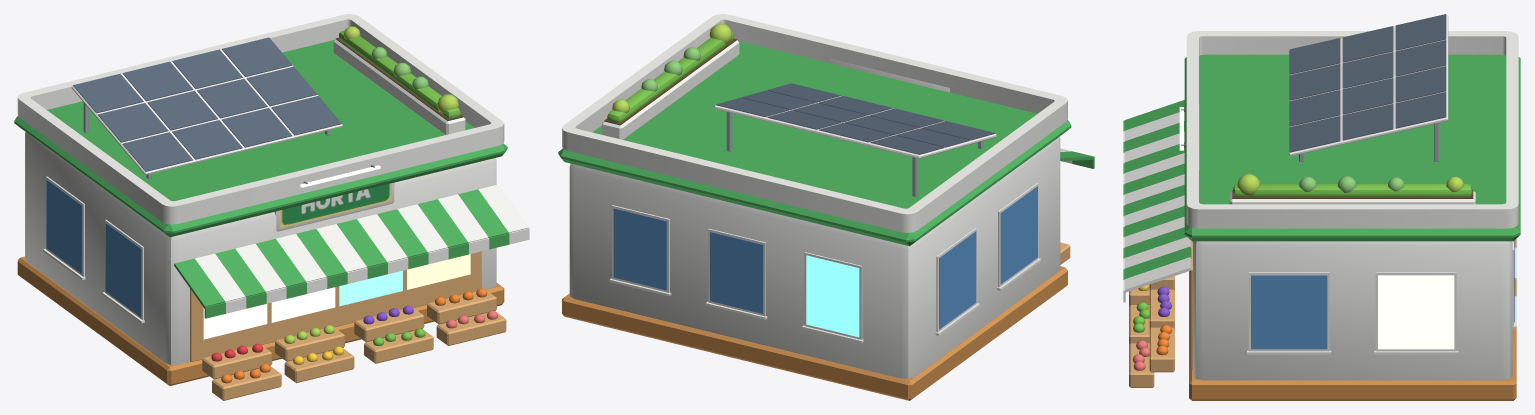
File: quitanda_horta.glb
3 renders of one model, left to right at view 1: azimuth 30°, elevation 25°; view 2: azimuth 150°, elevation 25°; view 3: azimuth 270°, elevation 25°, orthographic. The views are drawn at different scales.
Parts seen in each view (by area): view 1: quitanda_horta; view 2: quitanda_horta; view 3: quitanda_horta.
Part boxes in pixels (<box>): quitanda_horta: <box>14,14,529,400</box>; quitanda_horta: <box>558,14,1094,400</box>; quitanda_horta: <box>1123,14,1520,400</box>.
Bounding box in the file's own units: 10.4 × 6.05 × 9.7.
Materials: 7 (2 with a texture image).
